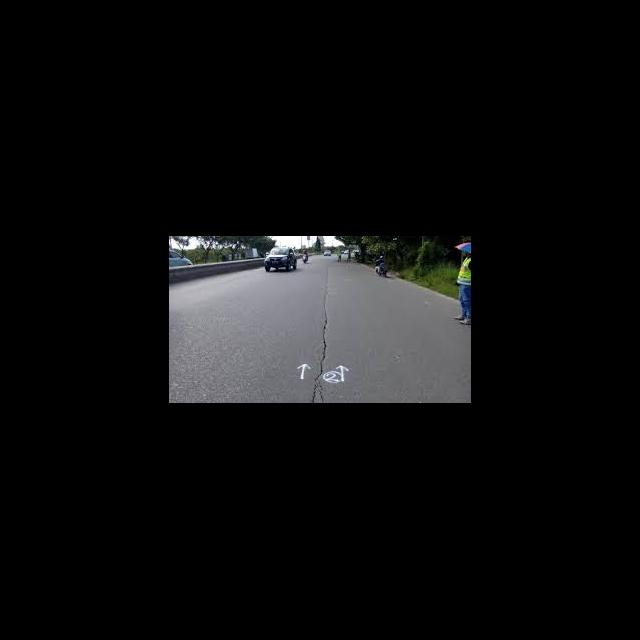retak_kulit_buaya: (310, 264, 333, 404)
